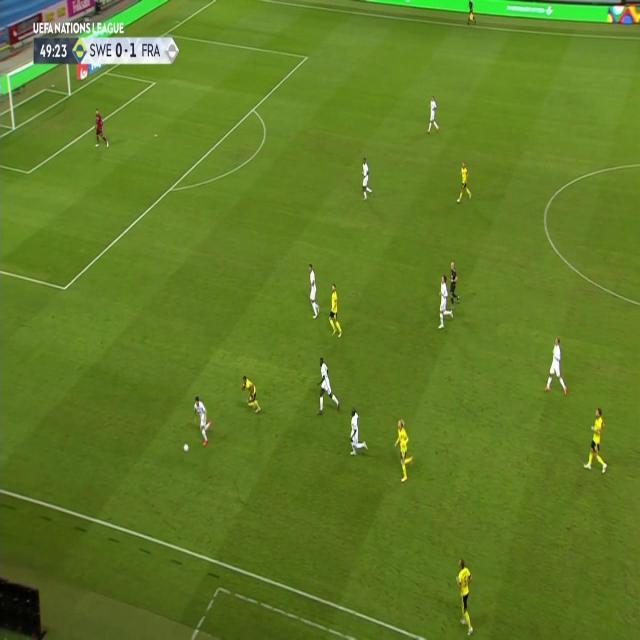ball: (182, 440, 189, 454)
player: (584, 407, 610, 476), (454, 555, 476, 633), (544, 335, 568, 397), (316, 355, 340, 417), (392, 418, 414, 482), (192, 395, 212, 447), (348, 407, 368, 459), (436, 274, 454, 330), (306, 263, 322, 320), (327, 281, 342, 339), (241, 372, 261, 414), (456, 161, 472, 203), (93, 108, 109, 150), (359, 156, 373, 202), (448, 260, 461, 306), (426, 94, 440, 134), (466, 0, 476, 25)
